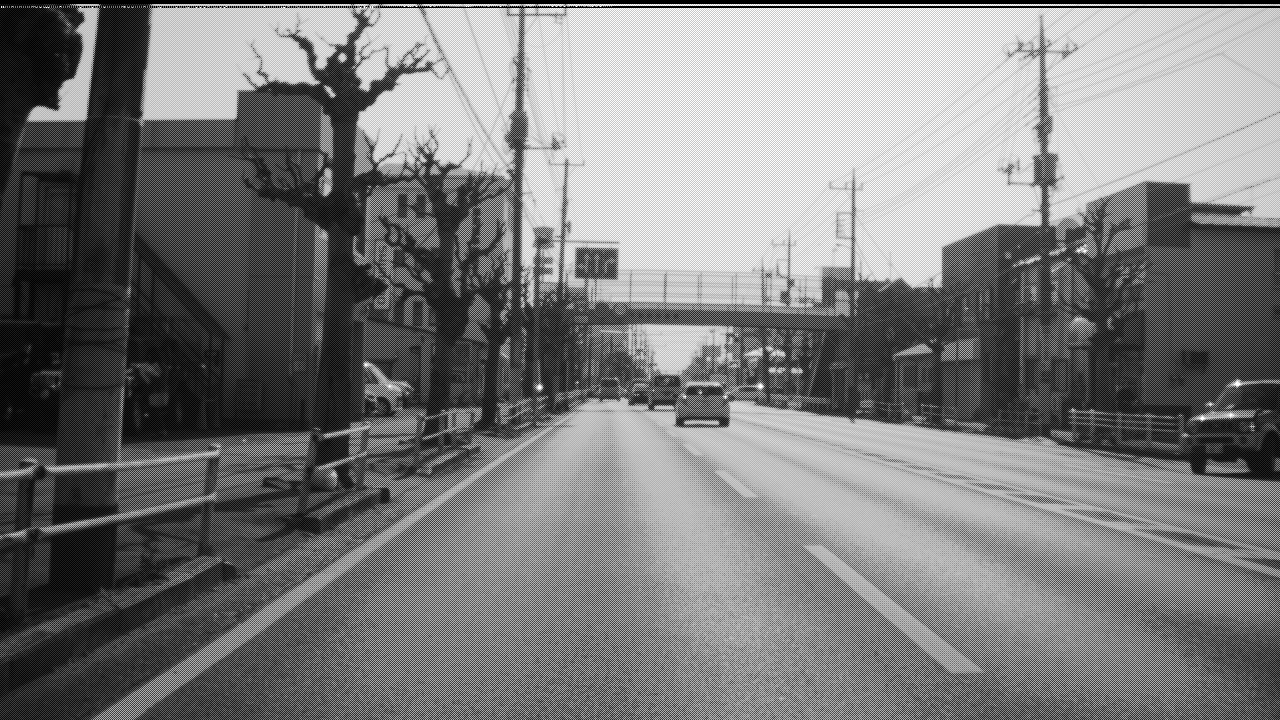pole: (49, 6, 151, 588), (509, 3, 526, 425), (1038, 15, 1051, 436), (532, 235, 545, 396), (558, 159, 569, 294), (849, 167, 857, 317)
